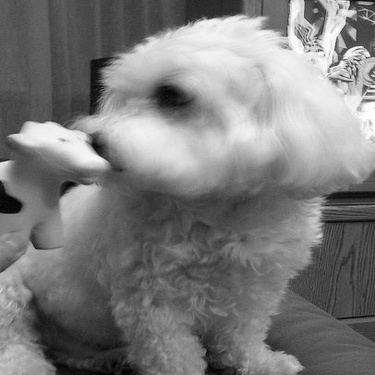dog: (3, 1, 370, 371)
